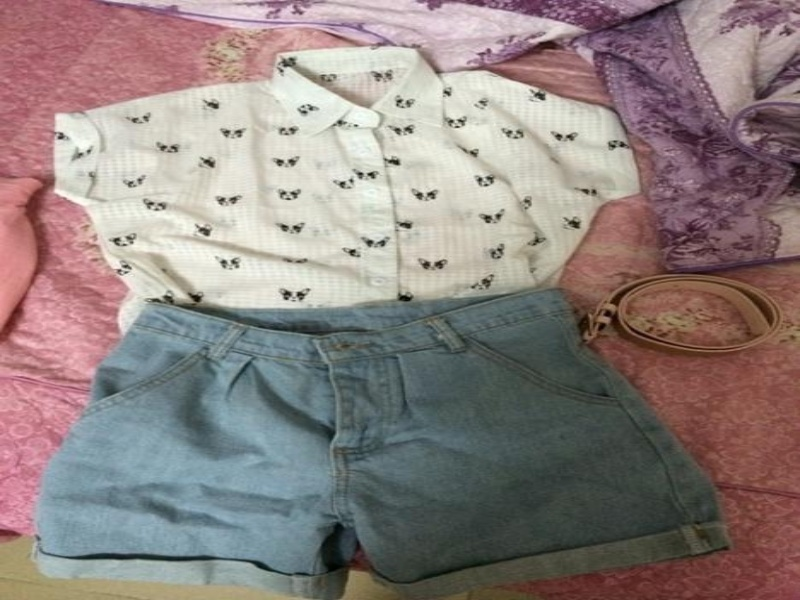short_sleeved_shirt: (43, 41, 648, 415)
shorts: (19, 283, 745, 599)
